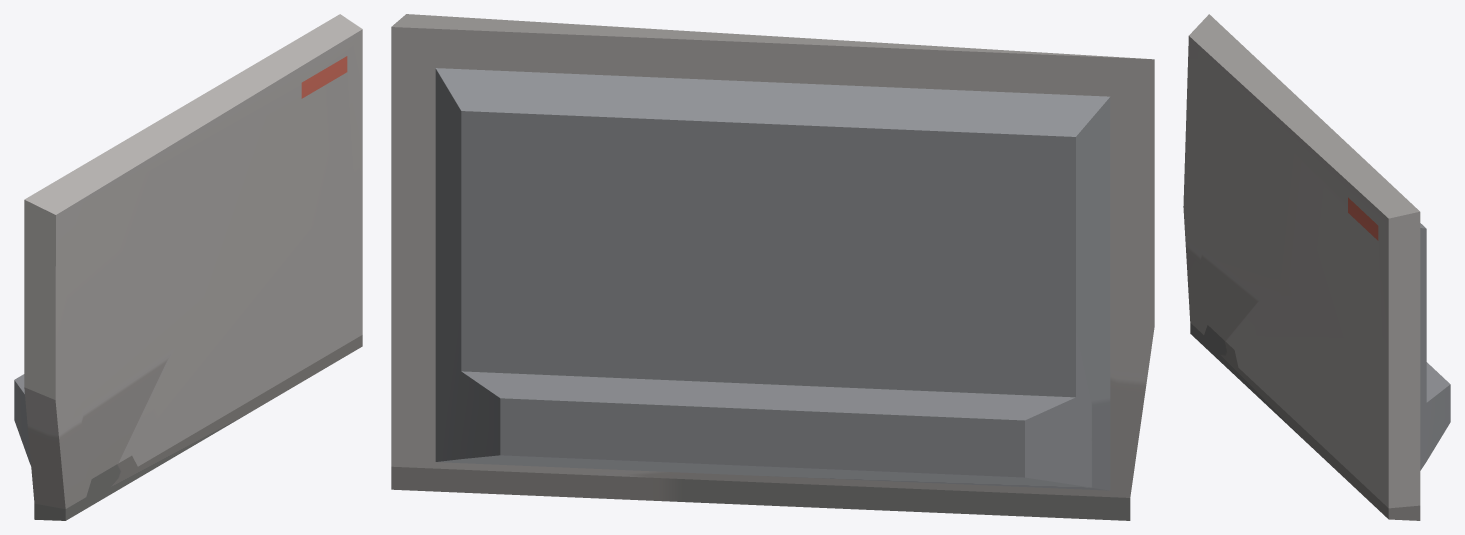
File: SM_Prop_Kitchen_Fridge_01_Door_02.obj
3 views of the same model, side by side, from view 1: azimuth 30°, elevation 25°; view 2: azimuth 150°, elevation 25°; view 3: azimuth 270°, elevation 25° (orthographic). The views are drawn at different scales.
Visible parts, largest first — view 1: SM_Prop_Kitchen_Fridge_01_Door_02_0; view 2: SM_Prop_Kitchen_Fridge_01_Door_02_0; view 3: SM_Prop_Kitchen_Fridge_01_Door_02_0.
Boxes of the visible parts, left/top/right/bottom form: SM_Prop_Kitchen_Fridge_01_Door_02_0: left=14, top=14, right=362, bottom=520; SM_Prop_Kitchen_Fridge_01_Door_02_0: left=391, top=14, right=1154, bottom=520; SM_Prop_Kitchen_Fridge_01_Door_02_0: left=1183, top=14, right=1450, bottom=520.
Bounding box in the file's own units: 0.9372 × 0.6745 × 0.5278.
1 material, 1 textured.
